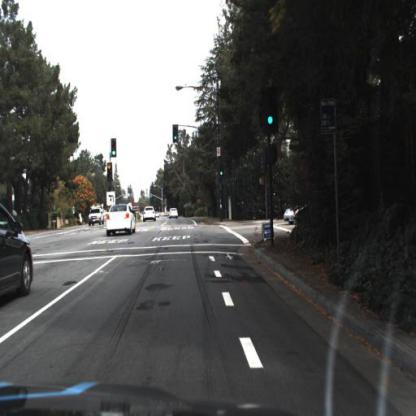car: (104, 200, 137, 241), (282, 198, 313, 232), (87, 202, 104, 229), (141, 205, 159, 226), (167, 204, 182, 225)
trafficLight-Green: (264, 94, 278, 129), (264, 112, 275, 135), (110, 139, 118, 164), (172, 123, 180, 146), (172, 129, 179, 150), (111, 146, 119, 162), (219, 161, 226, 179), (219, 167, 225, 185)
trafficLight-RedLeft: (106, 160, 116, 181), (106, 163, 114, 183)
